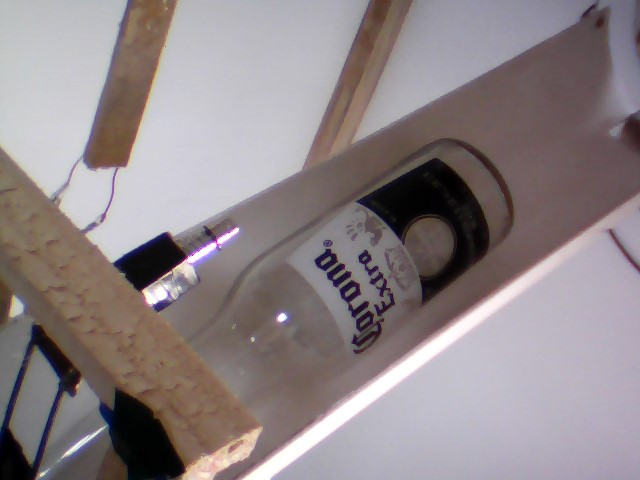vidrio: (170, 126, 531, 415)
